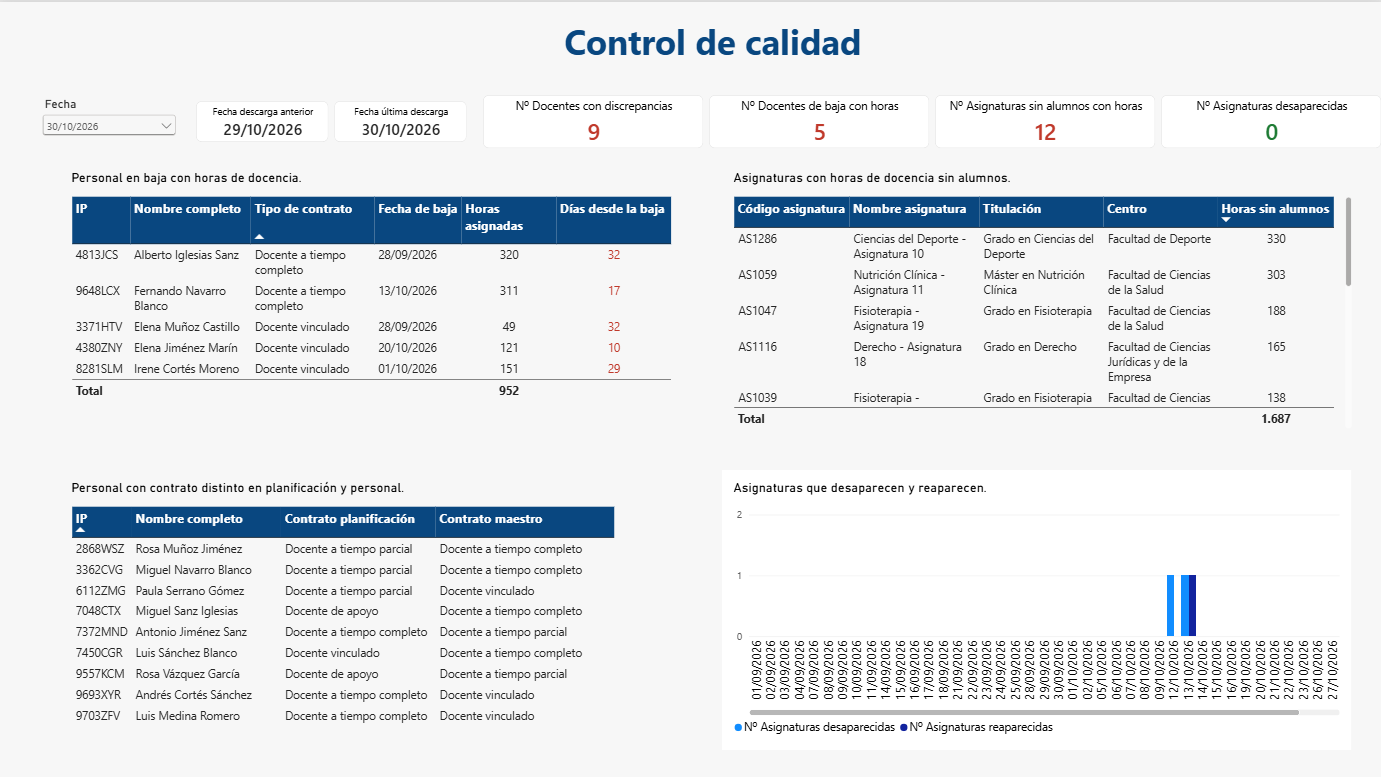

Layout of this report page (visuals, bound fields, positions):
{"tool":"powerbi","page":{"name":"Control de calidad","canvas":[1920,1080],"ordinal":2},"visuals":[{"type":"tableEx","title":"Personal en baja con horas de docencia.","fields":{"Values":["Personal.ip","Personal.Nombre completo","Personal.tipo_contrato","Personal.fecha_baja","Medidas.Horas asignadas","Medidas.Días desde la baja"]},"box":[83.6,219.5,874,389.2],"z":0},{"type":"textbox","box":[670.6,22.9,638.2,93.7],"z":1000},{"type":"slicer","fields":{"Values":["Calendario.Fecha"]},"box":[53.6,130.6,195.2,72.8],"z":2000,"group":"g1"},{"type":"tableEx","title":"Asignaturas con horas de docencia sin alumnos.","fields":{"Values":["Asignaturas.cod_asignatura","Asignaturas.asignatura","Asignaturas.titulacion","Asignaturas.centro","Medidas.Horas sin alumnos"]},"box":[1003.5,218.9,890.7,388.9],"z":2000},{"type":"group","id":"g1","title":"Grupo 1","box":[53.6,129.2,1866.4,74.2],"z":3000},{"type":"tableEx","title":"Personal con contrato distinto en planificación y personal.","fields":{"Values":["Personal.ip","Personal.Nombre completo","Medidas.Contrato planificación","Medidas.Contrato maestro"]},"box":[83.6,650.4,874,389.2],"z":4000},{"type":"clusteredColumnChart","title":"Asignaturas que desaparecen y reaparecen.","fields":{"Category":["Calendario.Fecha"],"Y":["Medidas.Nº Asignaturas desaparecidas","Medidas.Nº Asignaturas reaparecidas"]},"box":[1003.5,650,874.3,388.9],"z":5000},{"type":"cardVisual","fields":{"Data":["Medidas.Docentes con discrepancias","Medidas.Personal de baja con horas","Medidas.Asignaturas sin alumnos con horas","Medidas.Asignaturas desaparecidas"]},"box":[670.7,129.2,1249.3,74.2],"z":6000,"group":"g1"},{"type":"cardVisual","fields":{"Data":["Medidas.Fecha descarga anterior","Medidas.Fecha última descarga"]},"box":[271.4,137.4,376.6,57.7],"z":7000,"group":"g1"}]}

Visuals, with their boxes in screenshot pixels (x1, y1, x2, y2), scaled from the page's 1920x1080 canvas onto the 1381x777 screenshot:
"Personal en baja con horas de docencia." tableEx: {"left": 60, "top": 158, "right": 689, "bottom": 438}
textbox: {"left": 482, "top": 16, "right": 941, "bottom": 84}
slicer - Calendario.Fecha: {"left": 39, "top": 94, "right": 179, "bottom": 146}
"Asignaturas con horas de docencia sin alumnos." tableEx: {"left": 722, "top": 157, "right": 1362, "bottom": 437}
"Grupo 1" group: {"left": 39, "top": 93, "right": 1380, "bottom": 146}
"Personal con contrato distinto en planificación y personal." tableEx: {"left": 60, "top": 468, "right": 689, "bottom": 748}
"Asignaturas que desaparecen y reaparecen." clusteredColumnChart: {"left": 722, "top": 468, "right": 1351, "bottom": 747}
cardVisual - Medidas.Docentes con discrepancias x Medidas.Personal de baja con horas: {"left": 482, "top": 93, "right": 1380, "bottom": 146}
cardVisual - Medidas.Fecha descarga anterior x Medidas.Fecha última descarga: {"left": 195, "top": 99, "right": 466, "bottom": 140}
